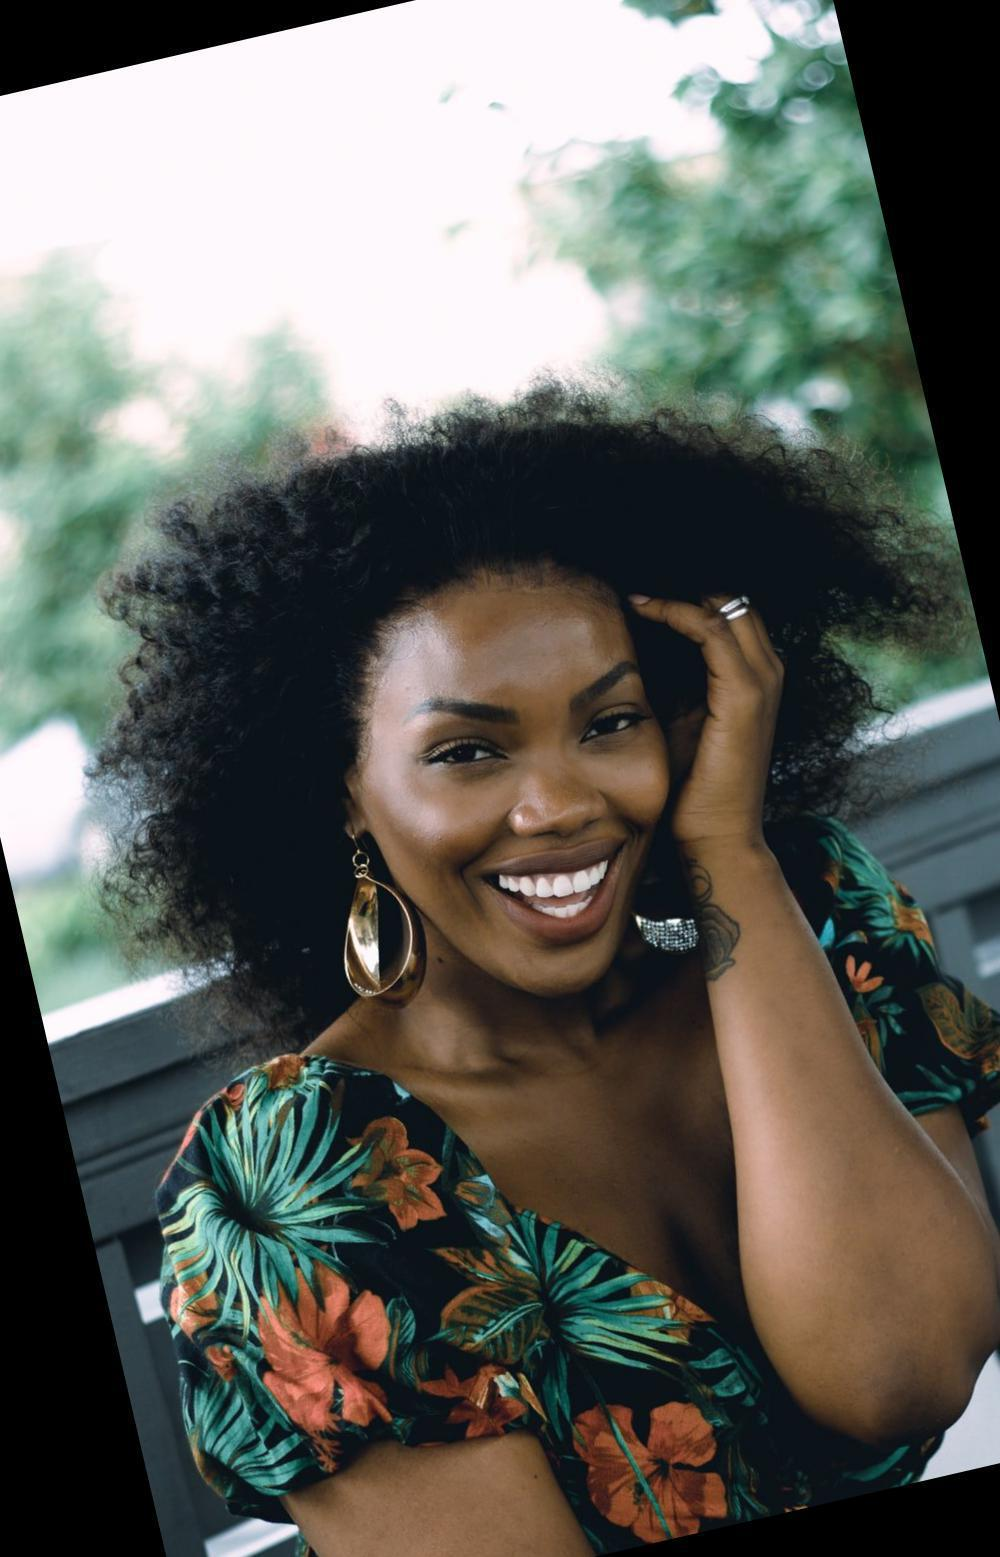Sober: (375, 614, 659, 973)
